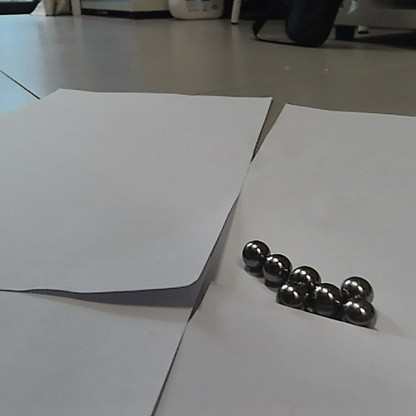ironball: (309, 282, 339, 314), (343, 298, 375, 326), (291, 262, 320, 292), (340, 277, 373, 300), (241, 239, 267, 267), (264, 253, 290, 281), (277, 282, 304, 304)
